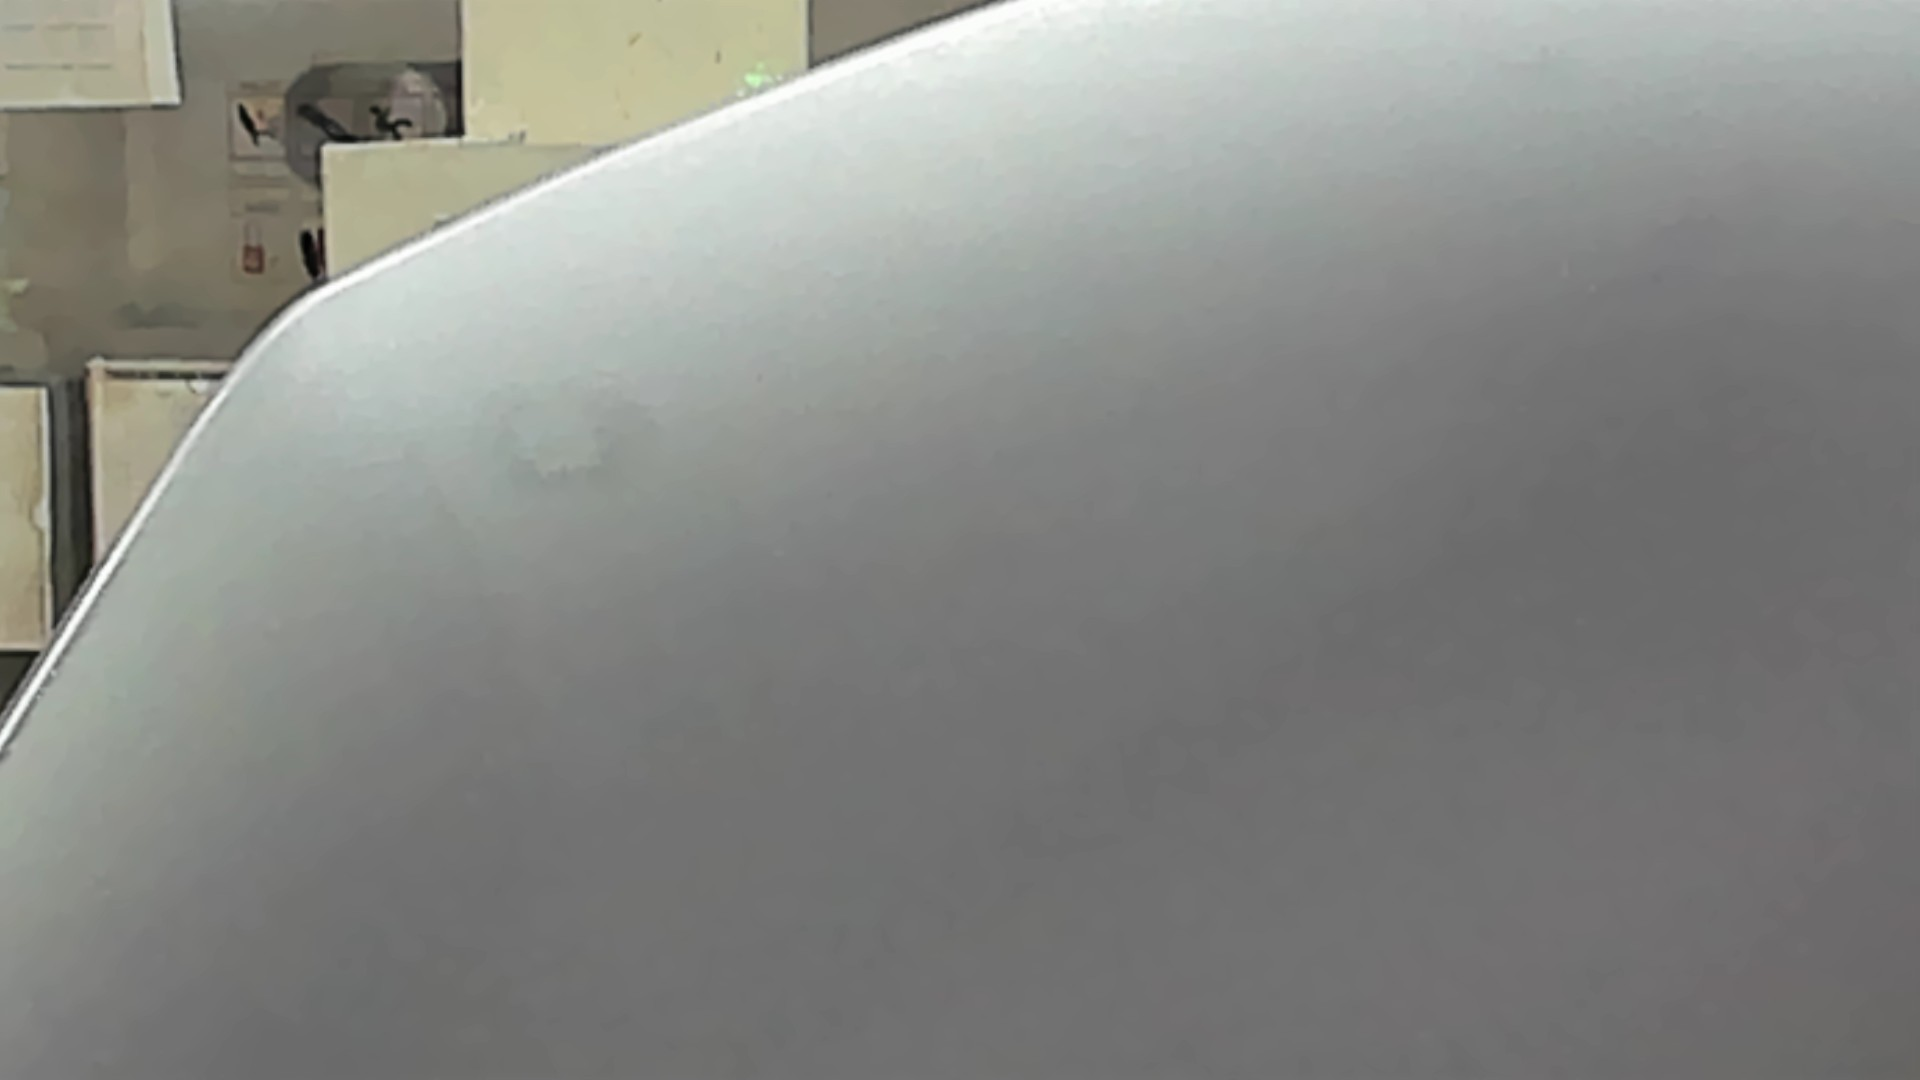capo: (546, 219, 1920, 1080)
